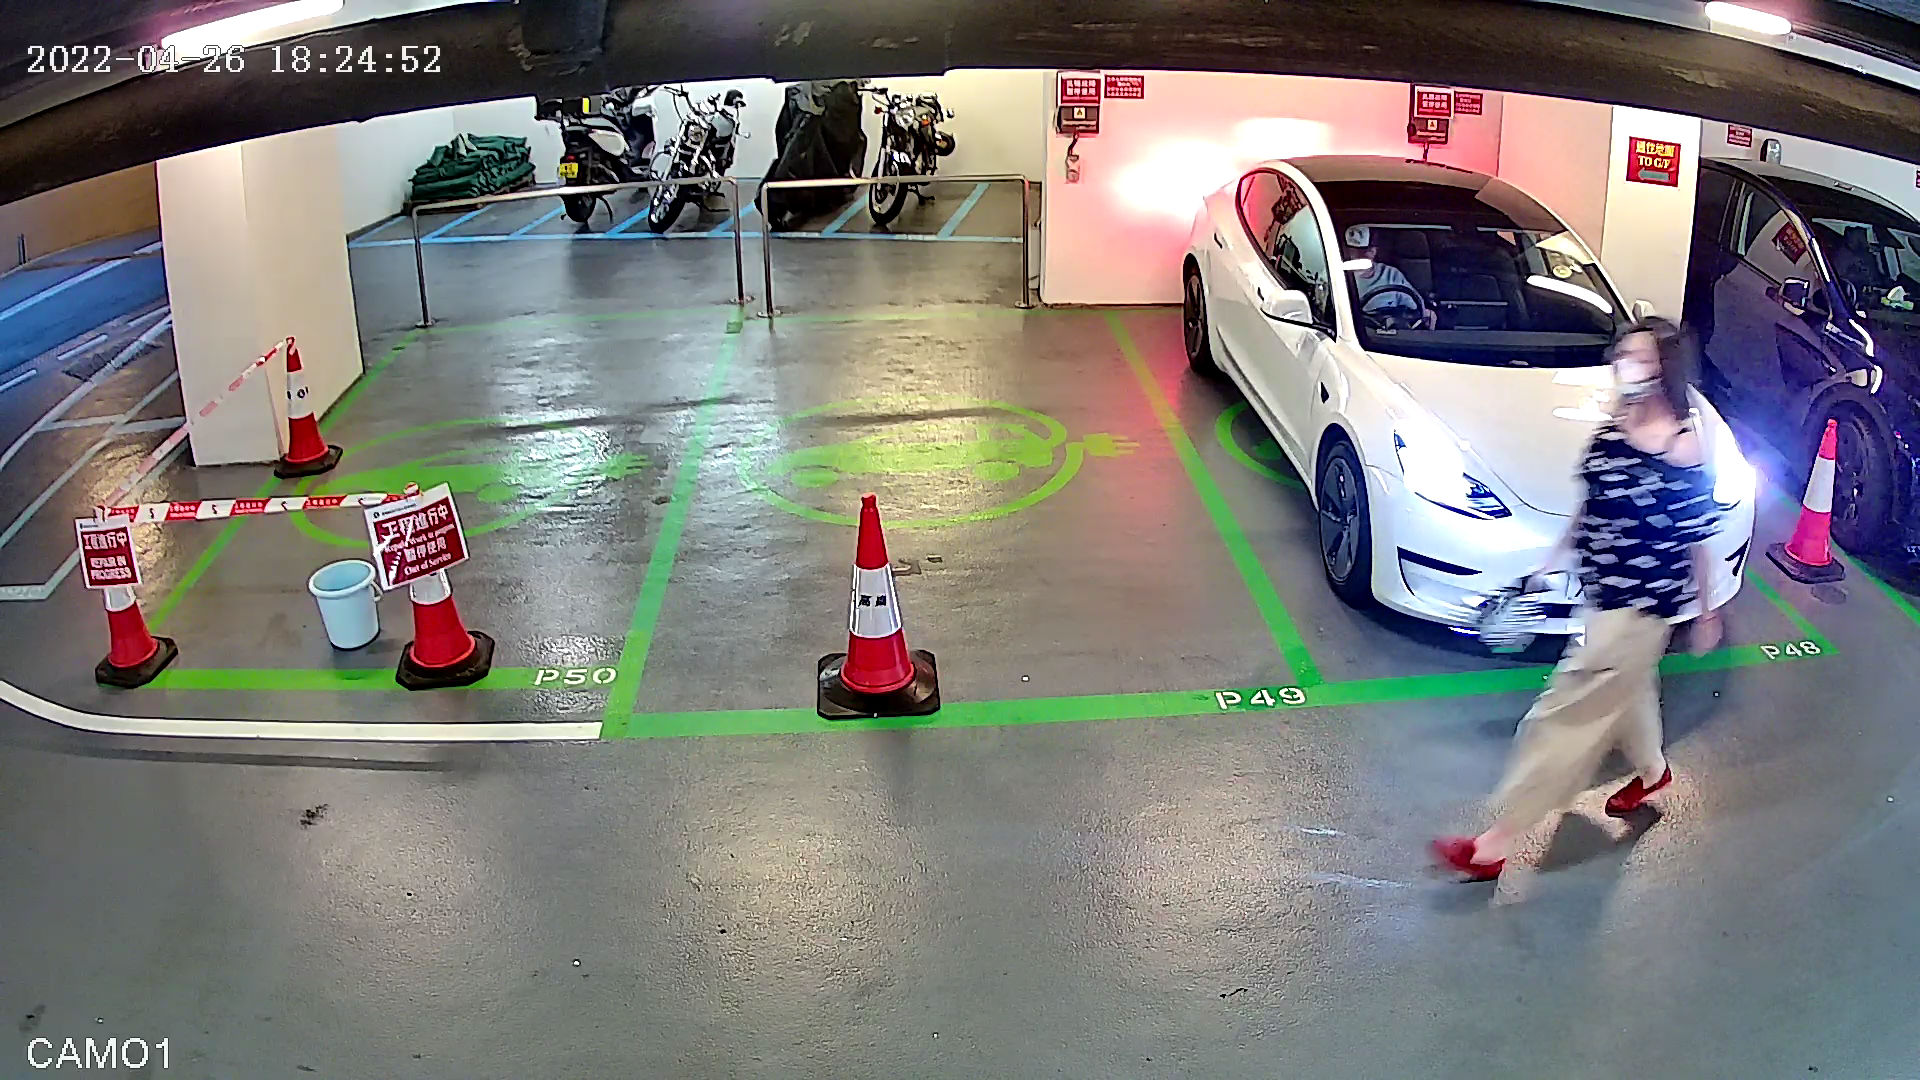car: (1156, 127, 1776, 659)
space: (578, 249, 1353, 766)
